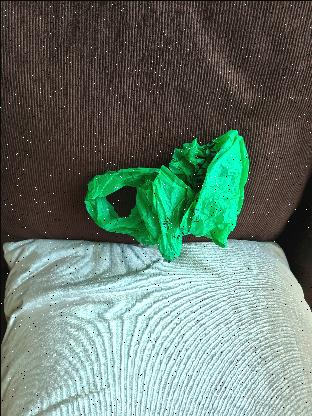Others: (82, 130, 248, 262)
